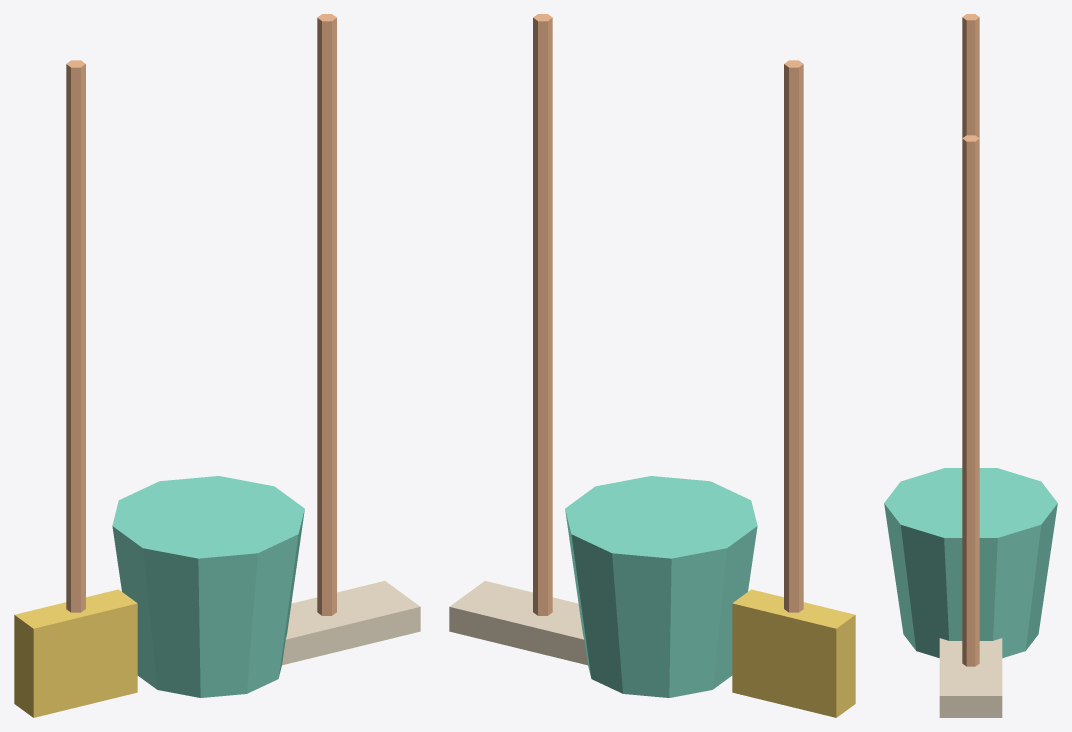
The picture shows the model from 3 angles, left to right: view 1: azimuth 30°, elevation 25°; view 2: azimuth 150°, elevation 25°; view 3: azimuth 270°, elevation 25°; orthographic projection. The views are drawn at different scales.
Visible parts, largest first — view 1: Bucket, Bristles, Mop pole, Broom pole, Mop head; view 2: Bucket, Bristles, Mop pole, Broom pole, Mop head; view 3: Bucket, Mop pole, Mop head, Broom pole.
Part boxes in pixels (x1=…): Bucket: x1=112, y1=476, x2=304, y2=697; Bristles: x1=14, y1=589, x2=137, y2=717; Mop pole: x1=317, y1=14, x2=336, y2=615; Broom pole: x1=66, y1=60, x2=85, y2=612; Mop head: x1=282, y1=581, x2=420, y2=665; Bucket: x1=565, y1=476, x2=757, y2=697; Bristles: x1=732, y1=589, x2=855, y2=717; Mop pole: x1=533, y1=14, x2=552, y2=615; Broom pole: x1=784, y1=60, x2=803, y2=612; Mop head: x1=449, y1=581, x2=587, y2=665; Bucket: x1=884, y1=468, x2=1057, y2=657; Mop pole: x1=962, y1=135, x2=979, y2=666; Mop head: x1=939, y1=638, x2=1002, y2=717; Broom pole: x1=962, y1=14, x2=979, y2=137.
Size of the model in its own units: 80 by 128 by 36.
